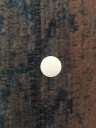Parol: (38, 54, 63, 78)
